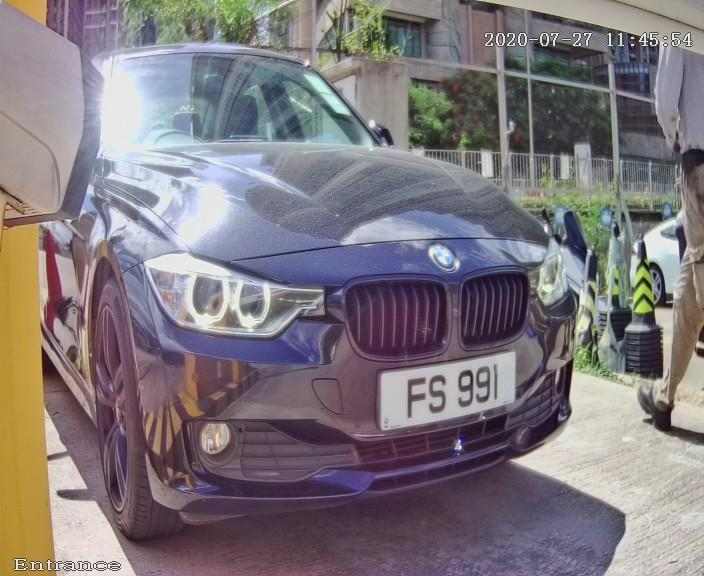privatecar: (29, 21, 607, 535)
